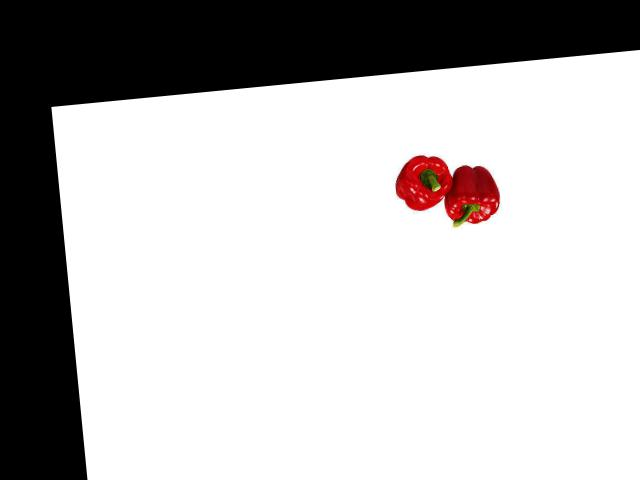bell_pepper: (438, 158, 504, 230)
